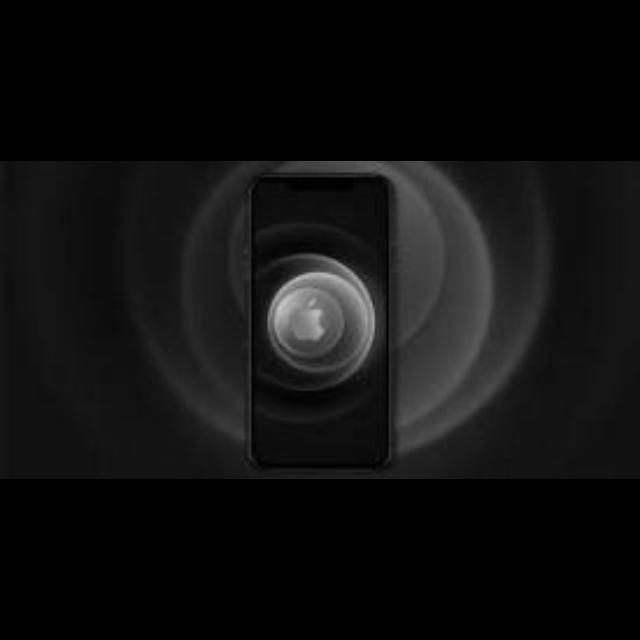fake: (236, 130, 402, 497)
